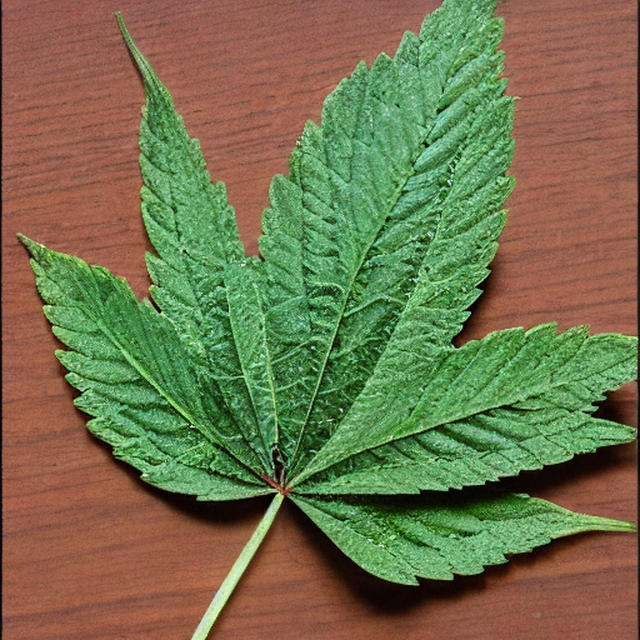Marijuana Leaf: (16, 1, 636, 634)
